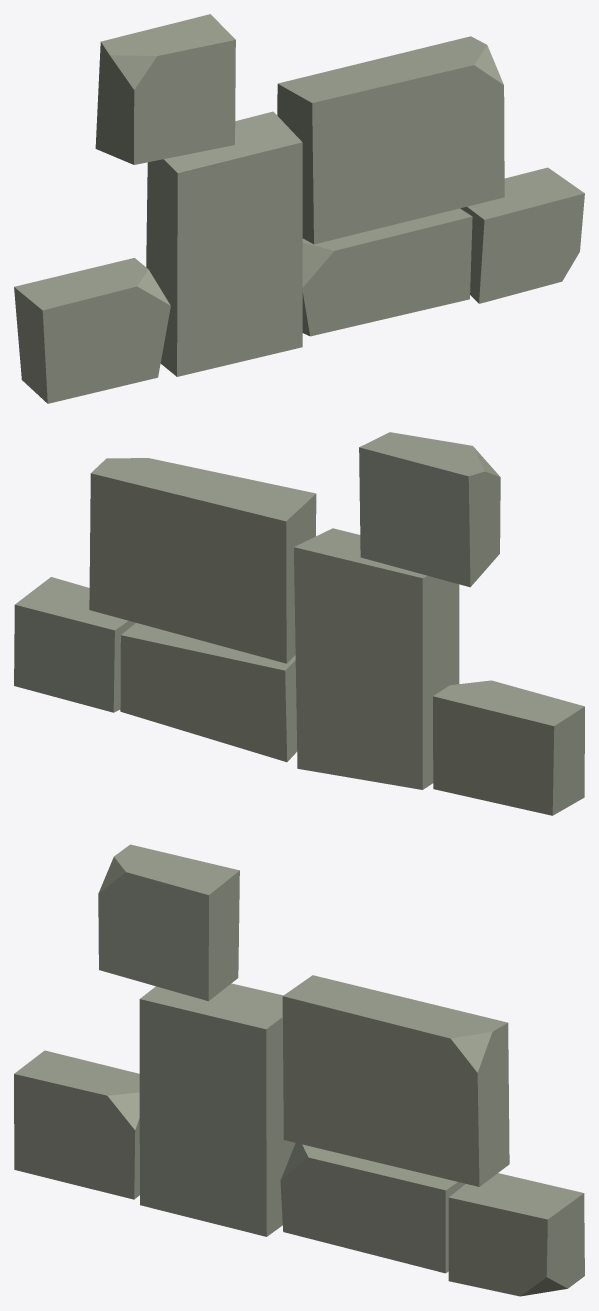
The model's file is edge_decor3.fbx.
3 views of the same model, one above another, from view 1: azimuth 30°, elevation 25°; view 2: azimuth 150°, elevation 25°; view 3: azimuth 330°, elevation 25° (orthographic).
Parts seen in each view (by area): view 1: edge_decor3; view 2: edge_decor3; view 3: edge_decor3.
Boxes of the visible parts, left/top/right/bottom form: edge_decor3: left=14, top=14, right=584, bottom=403; edge_decor3: left=14, top=432, right=584, bottom=815; edge_decor3: left=14, top=844, right=584, bottom=1296.
Bounding box in the file's own units: 5.87 × 0.8075 × 3.43.
